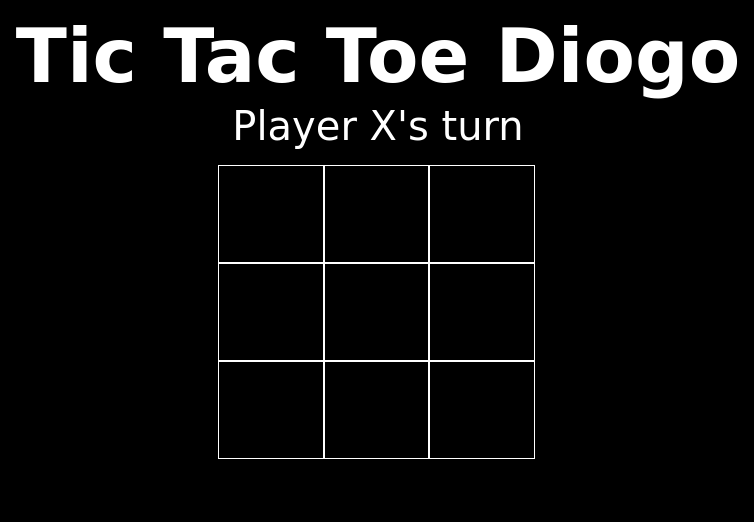
it: game status › players can not play in a position that has been already played
The width and height of the screenshot is (754, 522).
Click the 1st cell.
click(271, 214)  # box [218, 165, 324, 263]
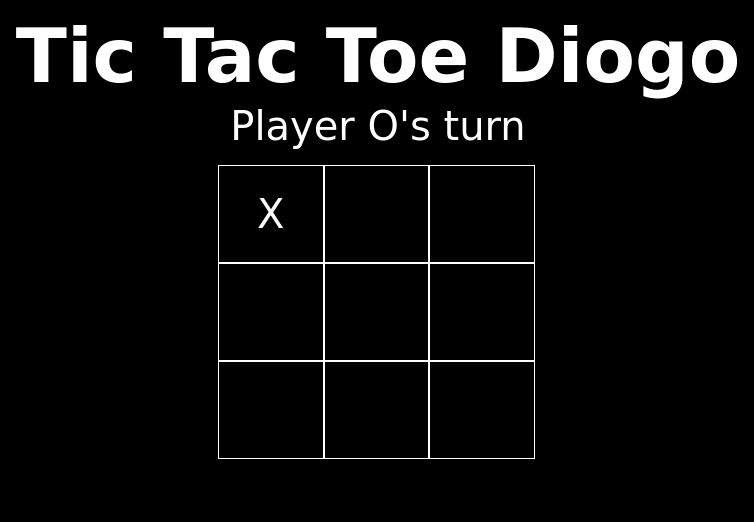
Click the cell "X".
click(271, 214)  # box [218, 165, 324, 263]
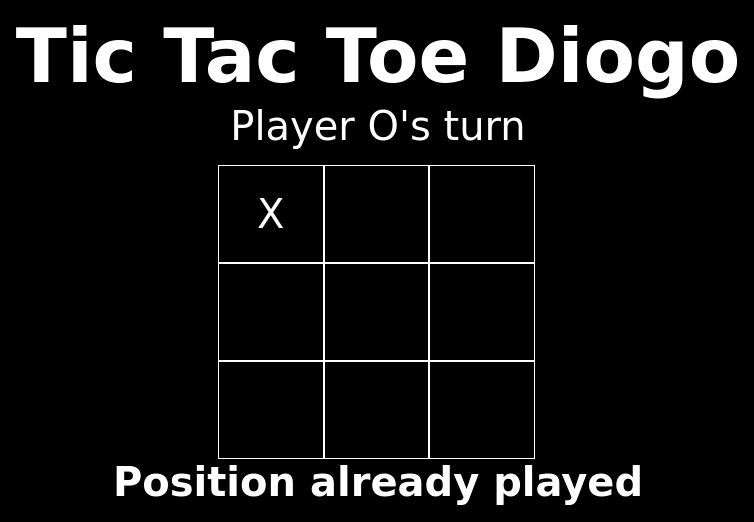
Result: the message reads "Position already played" at [113, 459, 643, 505]
